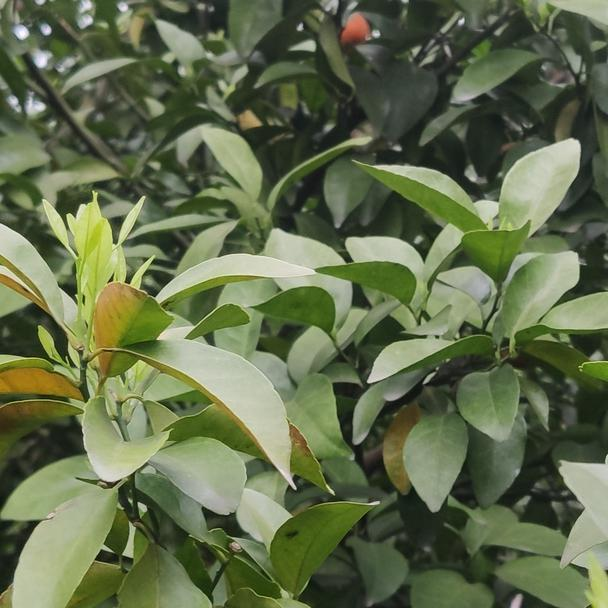shoot: (45, 196, 136, 349)
